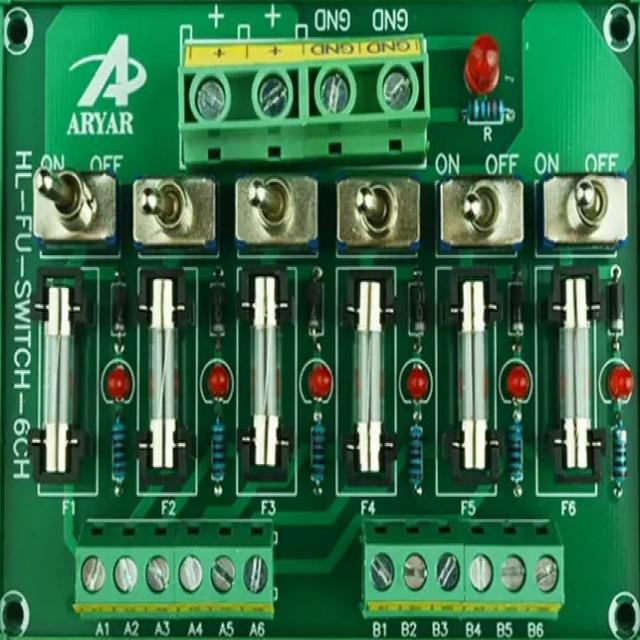2235: (541, 169, 631, 259), (437, 176, 532, 258), (22, 165, 118, 244), (236, 170, 321, 250), (338, 173, 421, 254), (132, 170, 214, 248)
LED: (461, 38, 507, 92), (604, 356, 634, 401), (103, 362, 134, 404), (505, 357, 533, 400), (308, 363, 332, 403), (207, 360, 230, 401), (404, 360, 427, 398)
connector -5v-: (177, 24, 433, 168), (355, 513, 566, 640), (68, 531, 284, 632)
diode -D1-: (104, 276, 131, 345), (207, 282, 230, 334), (306, 281, 325, 342), (609, 277, 627, 336), (408, 284, 430, 332), (508, 287, 526, 330)
fuse F1: (543, 260, 608, 495), (440, 264, 504, 478), (237, 268, 296, 482), (137, 260, 192, 477), (340, 266, 393, 480), (36, 270, 87, 480)
resistor IR1: (605, 413, 632, 498), (406, 418, 427, 493), (108, 413, 127, 484), (469, 94, 508, 127), (506, 422, 528, 479), (309, 416, 327, 476), (211, 422, 227, 483)
